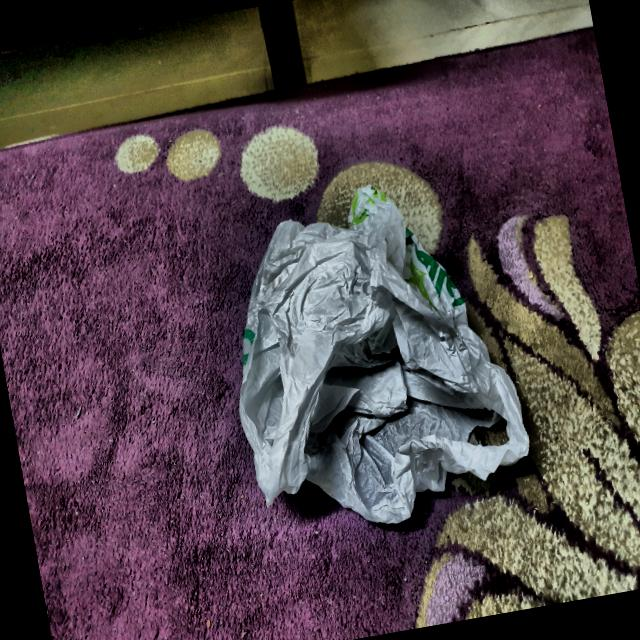plastic bag: (185, 149, 555, 562)
